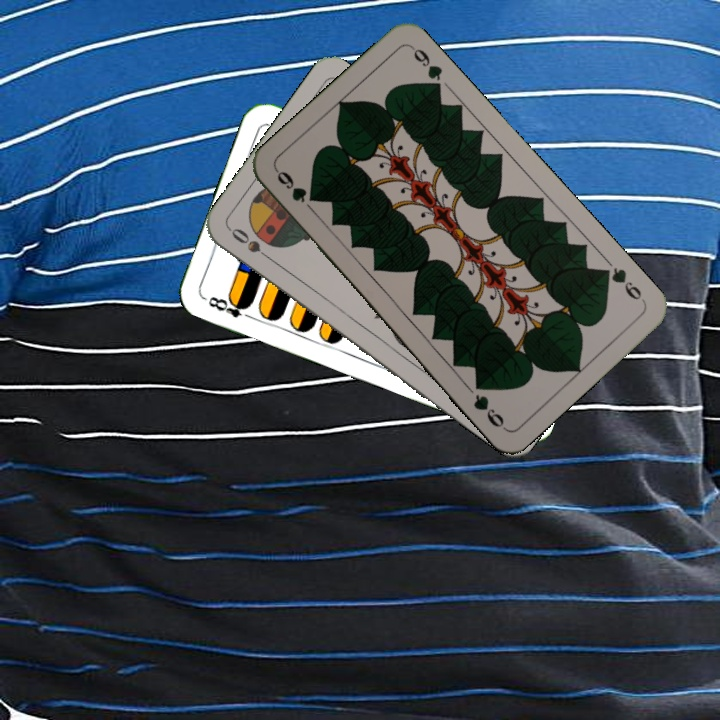E8: (200, 292, 257, 322)
G9: (596, 263, 648, 305), (272, 166, 316, 214)
SO: (227, 223, 277, 265)
